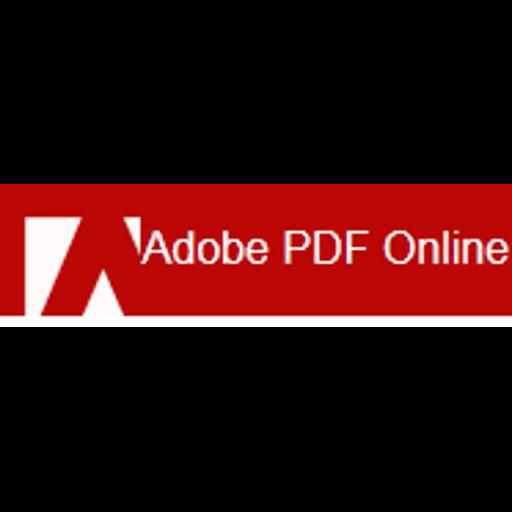Adobe: (0, 184, 512, 327)
